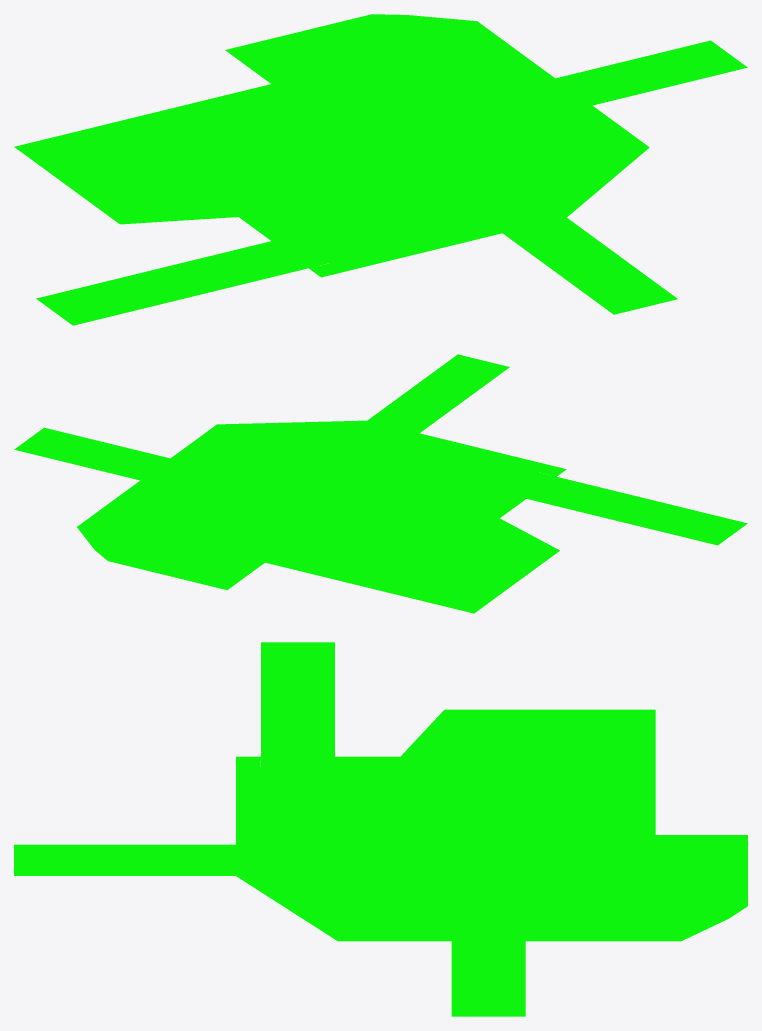
Rendered from s05a_td2-floor.glb.
The picture shows the model from 3 angles, top to bottom: view 1: azimuth 30°, elevation 25°; view 2: azimuth 150°, elevation 25°; view 3: azimuth 270°, elevation 25°; orthographic projection. The views are drawn at different scales.
Parts seen in each view (by area): view 1: collision_floor-colonly; view 2: collision_floor-colonly; view 3: collision_floor-colonly.
Boxes of the visible parts, box(x1,y1,x2,y2) form: collision_floor-colonly: box(14, 14, 747, 325); collision_floor-colonly: box(14, 354, 747, 613); collision_floor-colonly: box(14, 642, 747, 1016).
Size of the model in its own units: 71.88 by 0 by 59.53.
